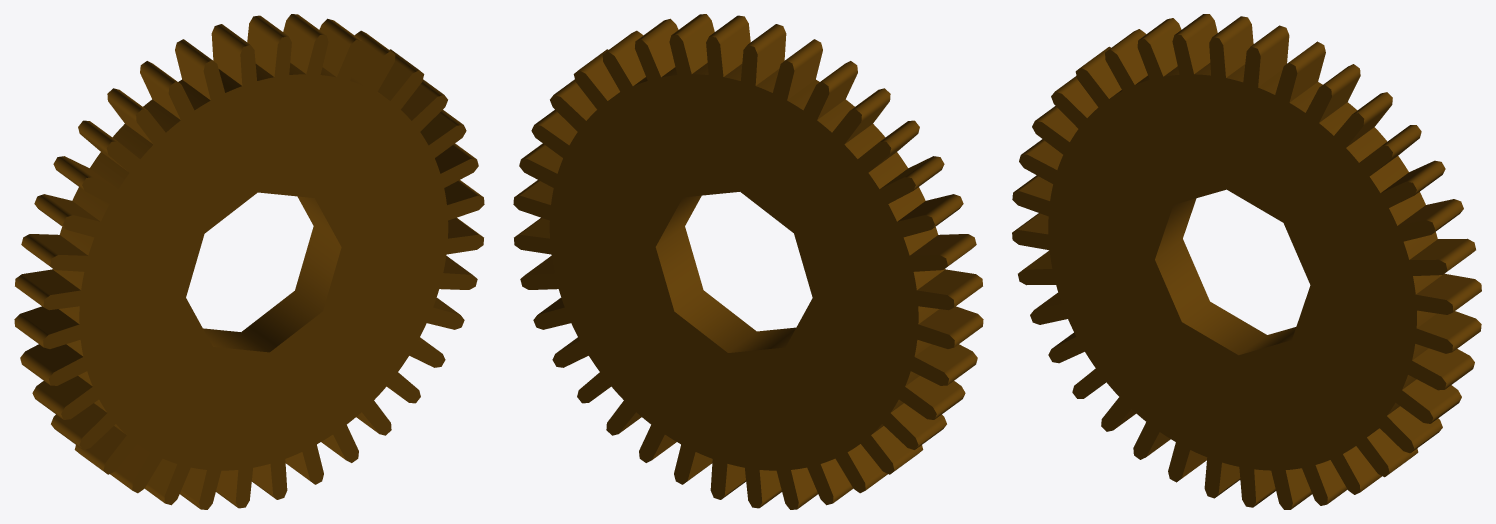
File: Roue dente_Roue des Heures - Quantieme.obj
3 renders of one model, left to right at view 1: azimuth 30°, elevation 25°; view 2: azimuth 150°, elevation 25°; view 3: azimuth 330°, elevation 25°, orthographic.
Parts seen in each view (by area): view 1: Face_2, Face_147, Face_117, Face_79, Face_83, Face_121, Face_113, Face_75, Face_125, Face_87, Face_71, Face_98 (+23 smaller); view 2: Face_1, Face_147, Face_117, Face_79, Face_83, Face_121, Face_113, Face_75, Face_125, Face_87, Face_71, Face_98 (+23 smaller); view 3: Face_2, Face_147, Face_119, Face_9, Face_13, Face_115, Face_123, Face_17, Face_4, Face_111, Face_21, Face_107 (+21 smaller).
Boxes of the visible parts, <box> form: Face_2: <box>43,35,484,509</box>; Face_147: <box>203,196,341,352</box>; Face_117: <box>247,23,277,76</box>; Face_79: <box>25,344,82,372</box>; Face_83: <box>20,306,79,334</box>; Face_121: <box>283,20,314,73</box>; Face_113: <box>211,34,242,85</box>; Face_75: <box>36,376,92,406</box>; Face_125: <box>319,24,350,77</box>; Face_87: <box>22,269,80,294</box>; Face_71: <box>54,403,106,437</box>; Face_98: <box>90,152,129,188</box>; Face_1: <box>513,35,954,509</box>; Face_147: <box>655,195,795,352</box>; Face_117: <box>720,23,750,76</box>; Face_79: <box>915,344,972,372</box>; Face_83: <box>918,306,977,334</box>; Face_121: <box>683,20,714,73</box>; Face_113: <box>755,34,786,85</box>; Face_75: <box>905,376,961,406</box>; Face_125: <box>647,24,678,77</box>; Face_87: <box>917,269,975,294</box>; Face_71: <box>891,403,943,437</box>; Face_98: <box>868,152,907,188</box>; Face_2: <box>1012,35,1453,509</box>; Face_147: <box>1155,198,1295,355</box>; Face_119: <box>1223,24,1253,77</box>; Face_9: <box>1417,311,1475,339</box>; Face_13: <box>1412,348,1469,376</box>; Face_115: <box>1186,20,1217,73</box>; Face_123: <box>1258,35,1289,87</box>; Face_17: <box>1402,379,1457,410</box>; Face_4: <box>1416,273,1474,299</box>; Face_111: <box>1150,24,1181,76</box>; Face_21: <box>1387,406,1439,440</box>; Face_107: <box>1117,33,1147,84</box>.
Size of the model in its own units: 0.0311 by 0.0311 by 0.0035.
